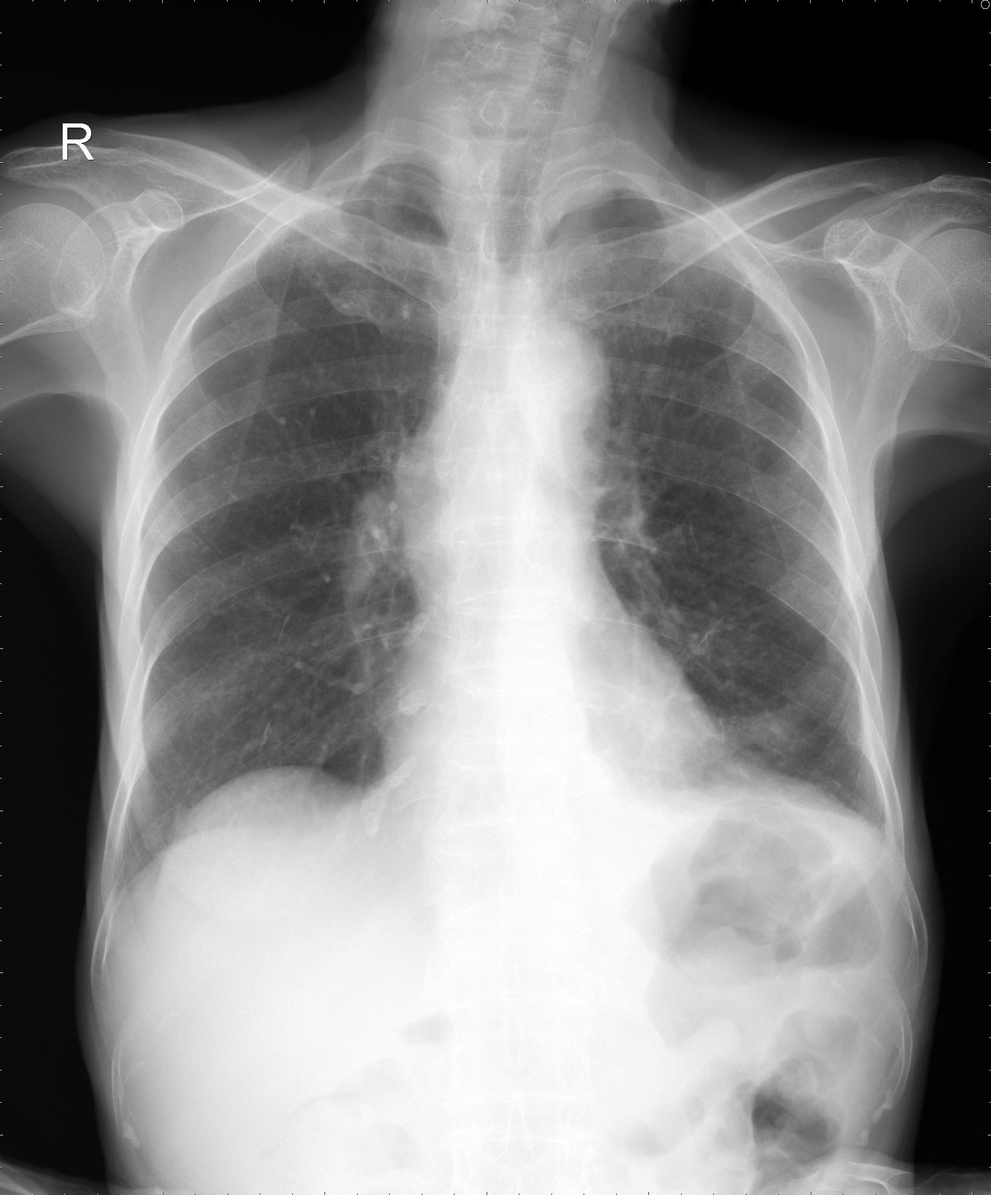Aortic enlargement: (511, 318, 611, 465)
